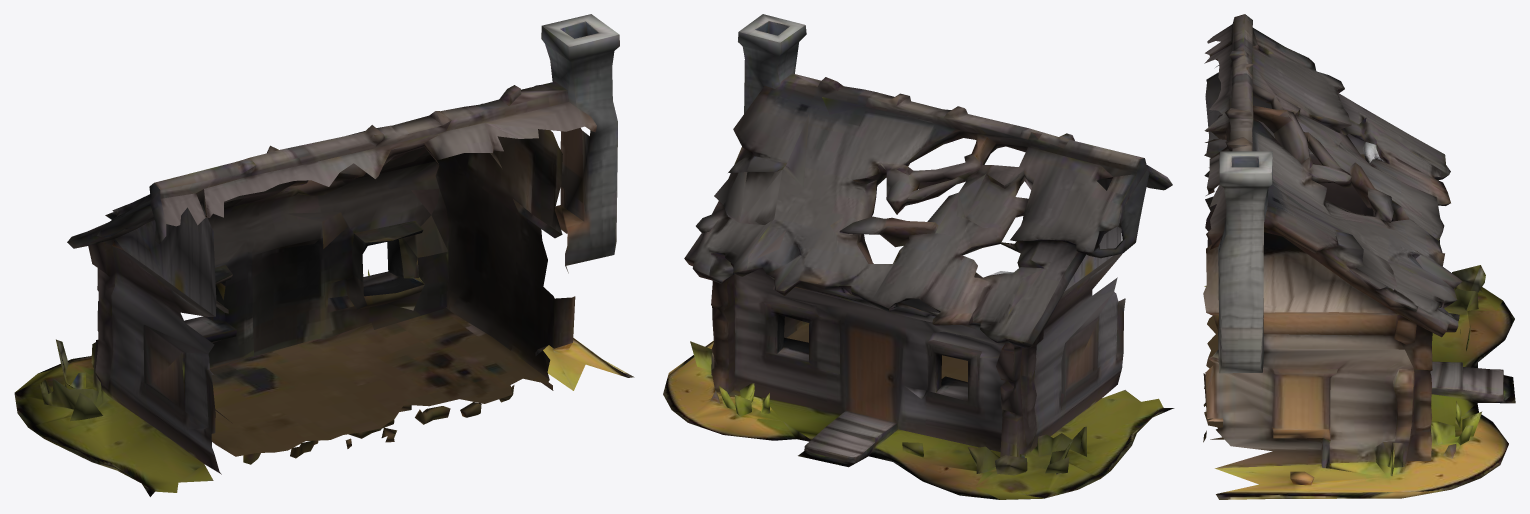
The model's file is ruin_a.glb.
3 renders of one model, left to right at view 1: azimuth 30°, elevation 25°; view 2: azimuth 150°, elevation 25°; view 3: azimuth 270°, elevation 25°, orthographic. The views are drawn at different scales.
Visible parts, largest first — view 1: geometry_0; view 2: geometry_0; view 3: geometry_0.
Boxes of the visible parts, x1,y1,x2,y2 form: geometry_0: (14,14,634,496); geometry_0: (663,14,1174,499); geometry_0: (1203,14,1515,499).
Bounding box in the file's own units: 7.88 × 5.27 × 4.56.
Materials: 1 (1 with a texture image).
